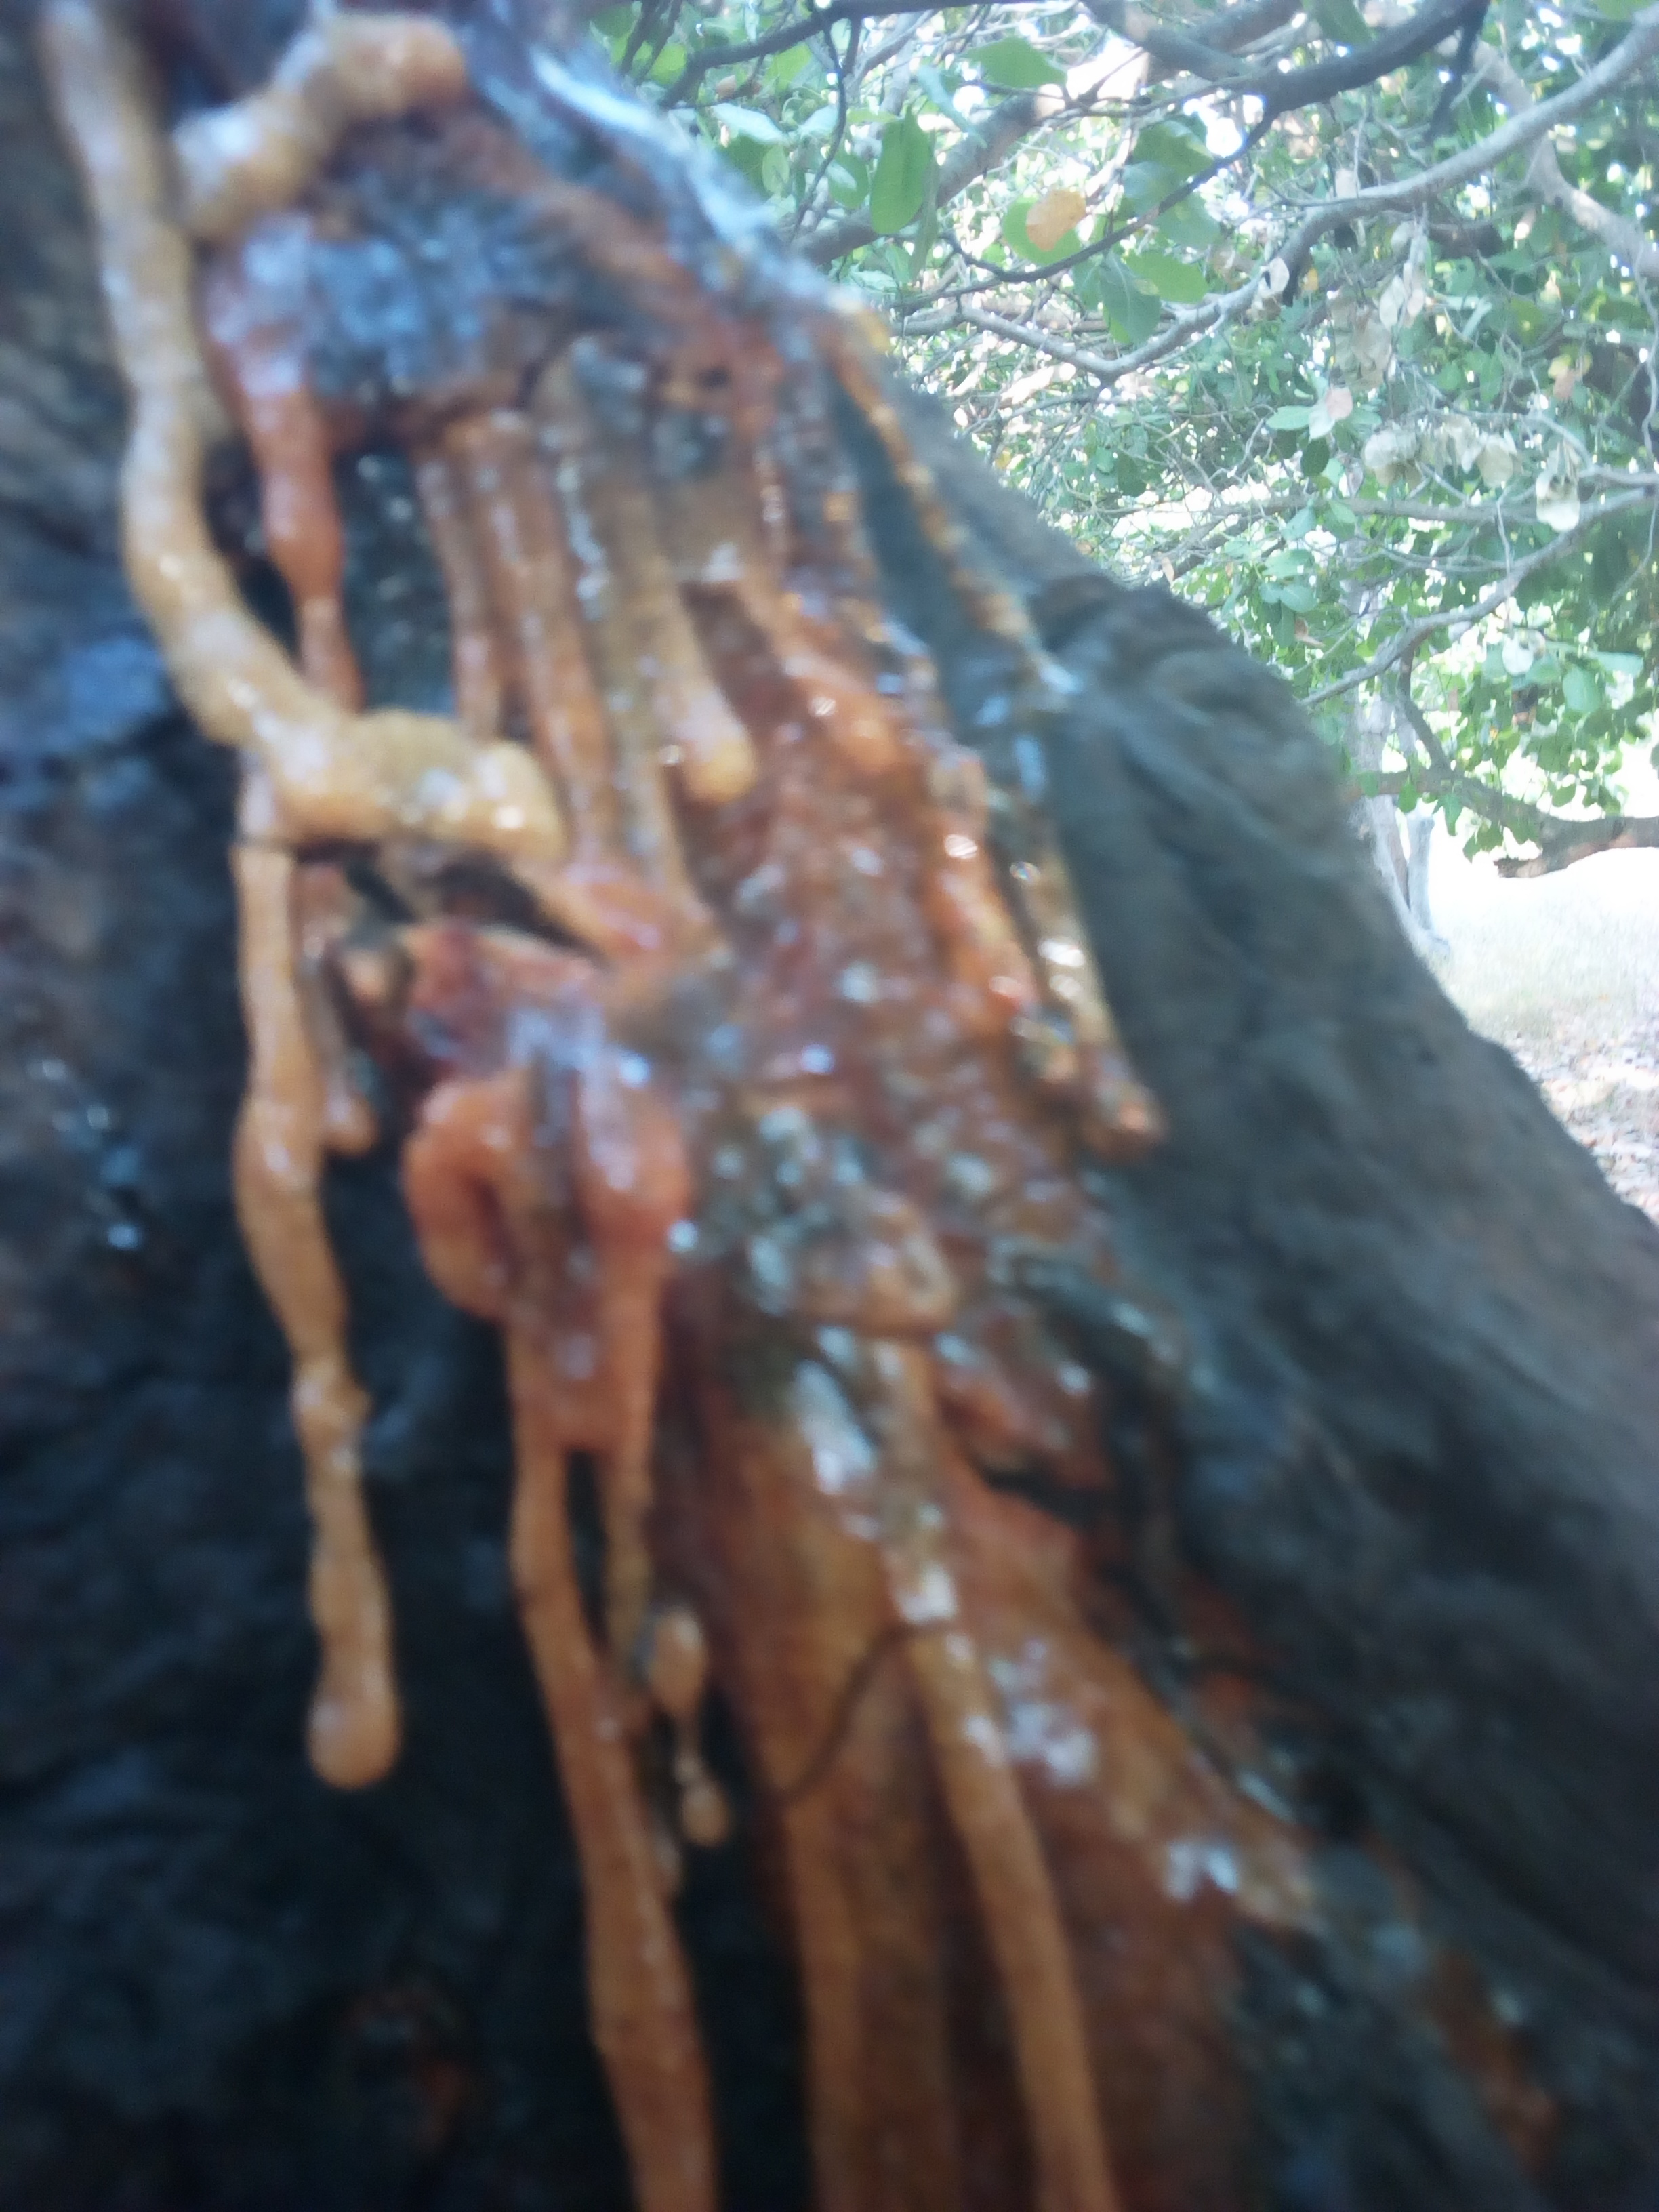Gommose: (129, 82, 1480, 2212)
